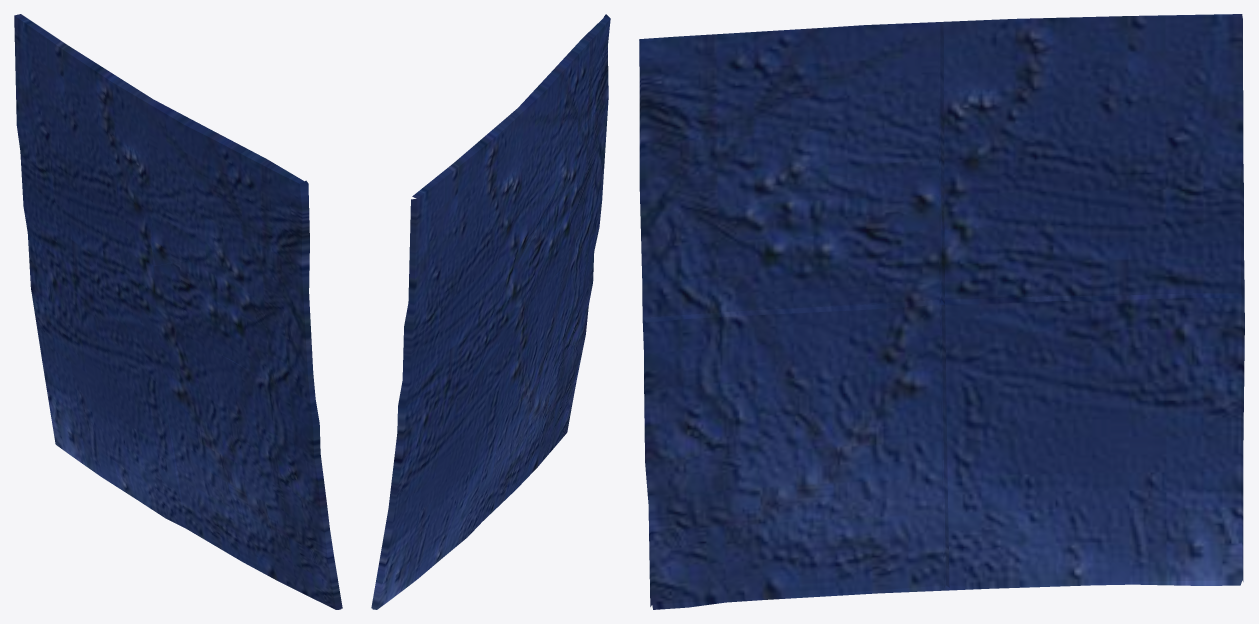
The picture shows the model from 3 angles, left to right: view 1: azimuth 30°, elevation 25°; view 2: azimuth 150°, elevation 25°; view 3: azimuth 270°, elevation 25°; orthographic projection. The views are drawn at different scales.
Bounding box in the file's own units: 261187 × 1253377 × 1259514.
1 material, 1 textured.
